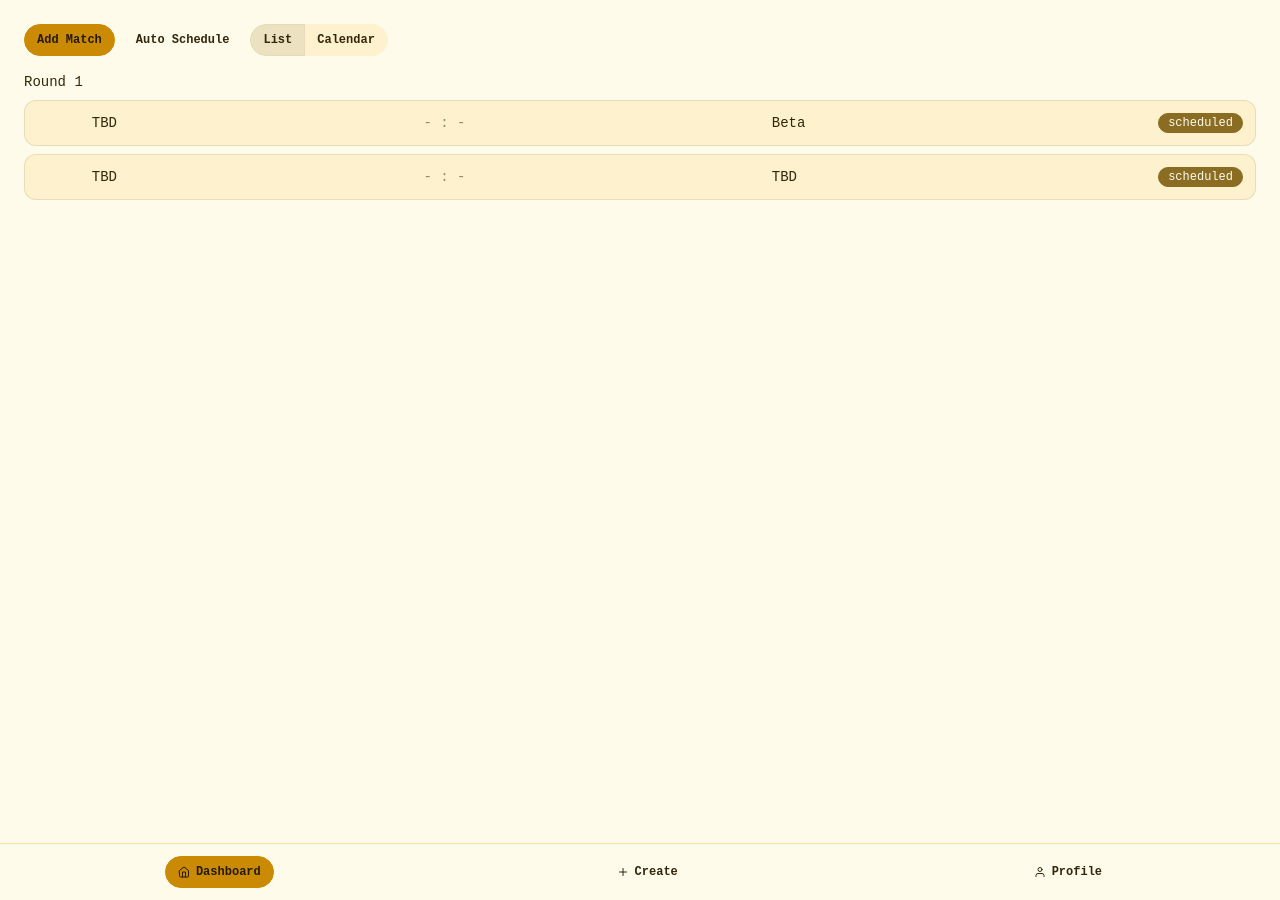
Test: MatchesPage › toggles to the calendar view and labels unknown participants as TBD
Click the button "Calendar" at (346, 40), box x1=304 y1=24 x2=388 y2=56
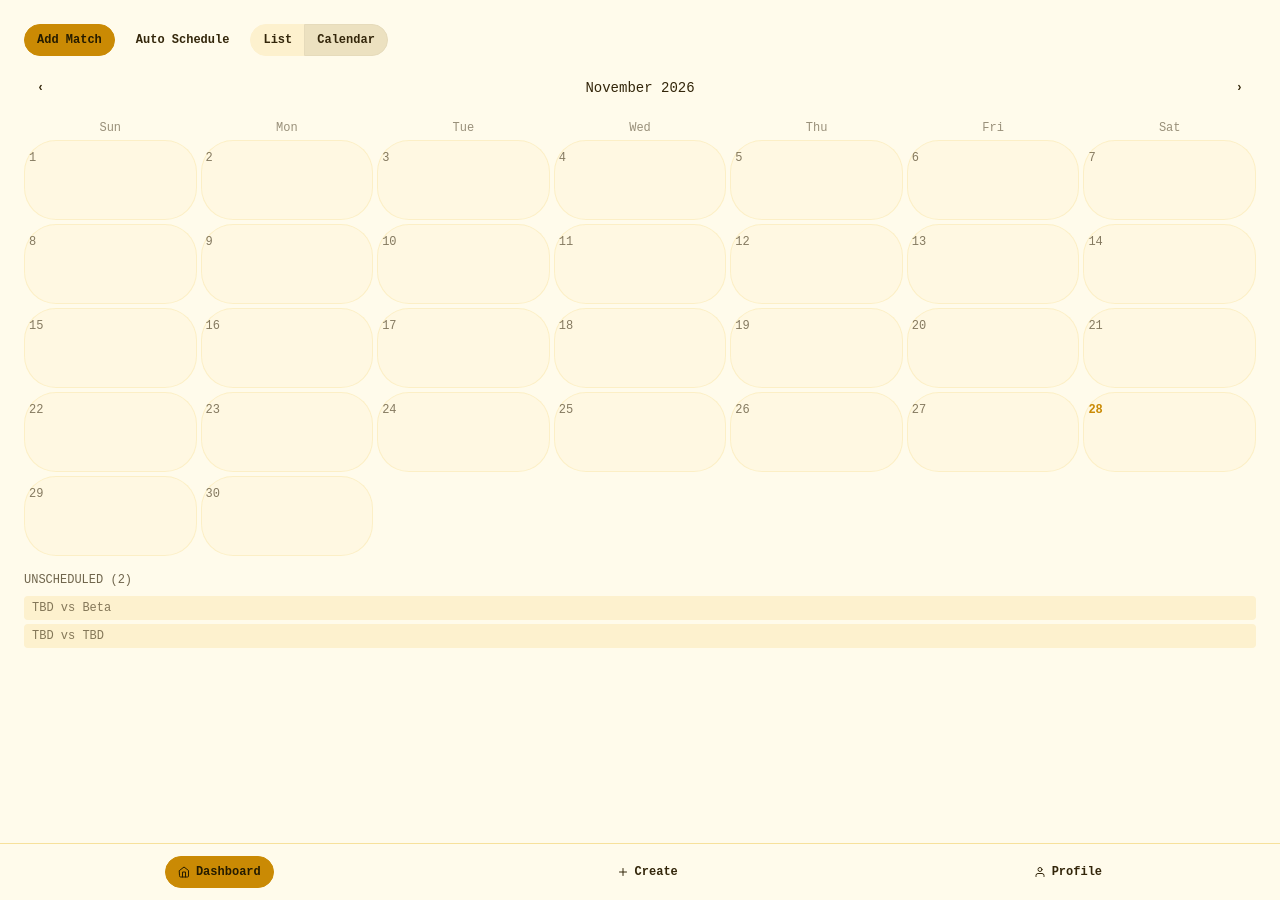
Expected: the heading "Unscheduled (2)" is shown, x1=24 y1=573 x2=132 y2=587
Expected: the text "TBD vs Beta" is shown, x1=24 y1=596 x2=1256 y2=620
